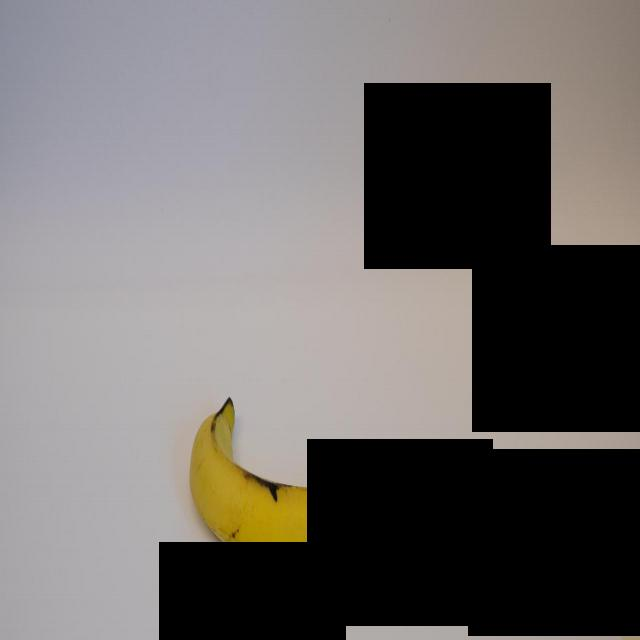banana: (188, 392, 385, 570)
